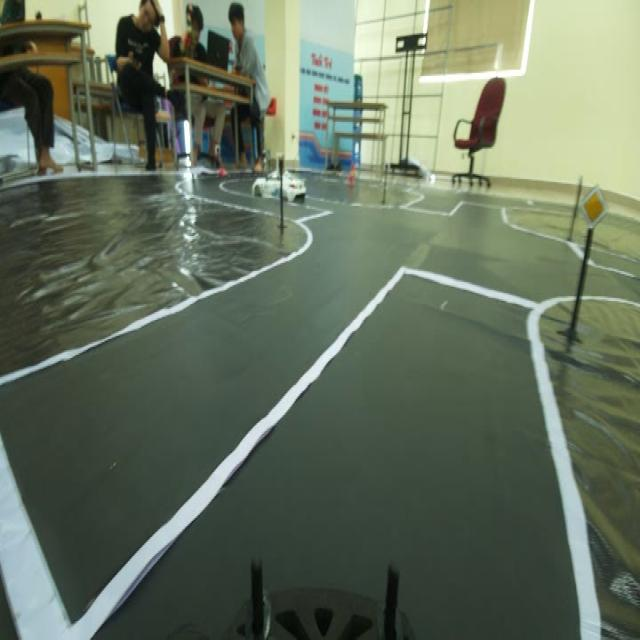priority: (577, 174, 611, 232)
